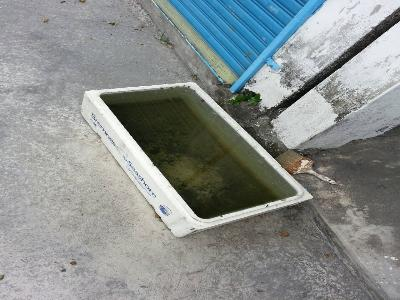styrofoam: (79, 80, 316, 240)
